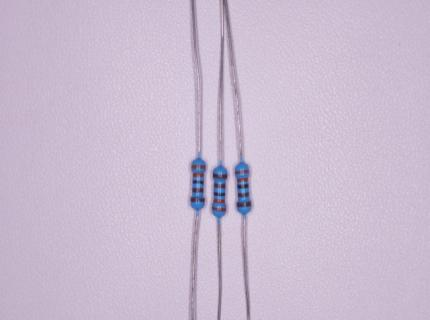Black band: (192, 180, 204, 185), (214, 192, 225, 196), (238, 184, 249, 188)
Brown band: (191, 197, 205, 202), (237, 202, 251, 207), (213, 174, 227, 178), (192, 188, 203, 193), (214, 183, 225, 188), (238, 192, 249, 197)
Orange band: (212, 206, 226, 211), (191, 165, 205, 169), (237, 177, 248, 182), (236, 170, 249, 174), (193, 173, 204, 177), (214, 199, 225, 203)
